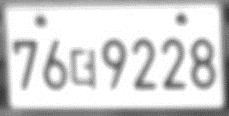2: (129, 37, 159, 90), (160, 37, 189, 91)
6: (41, 38, 68, 90)
7: (11, 37, 39, 90)
8: (190, 36, 216, 91)
9: (101, 36, 129, 89)
더: (70, 46, 98, 89)
